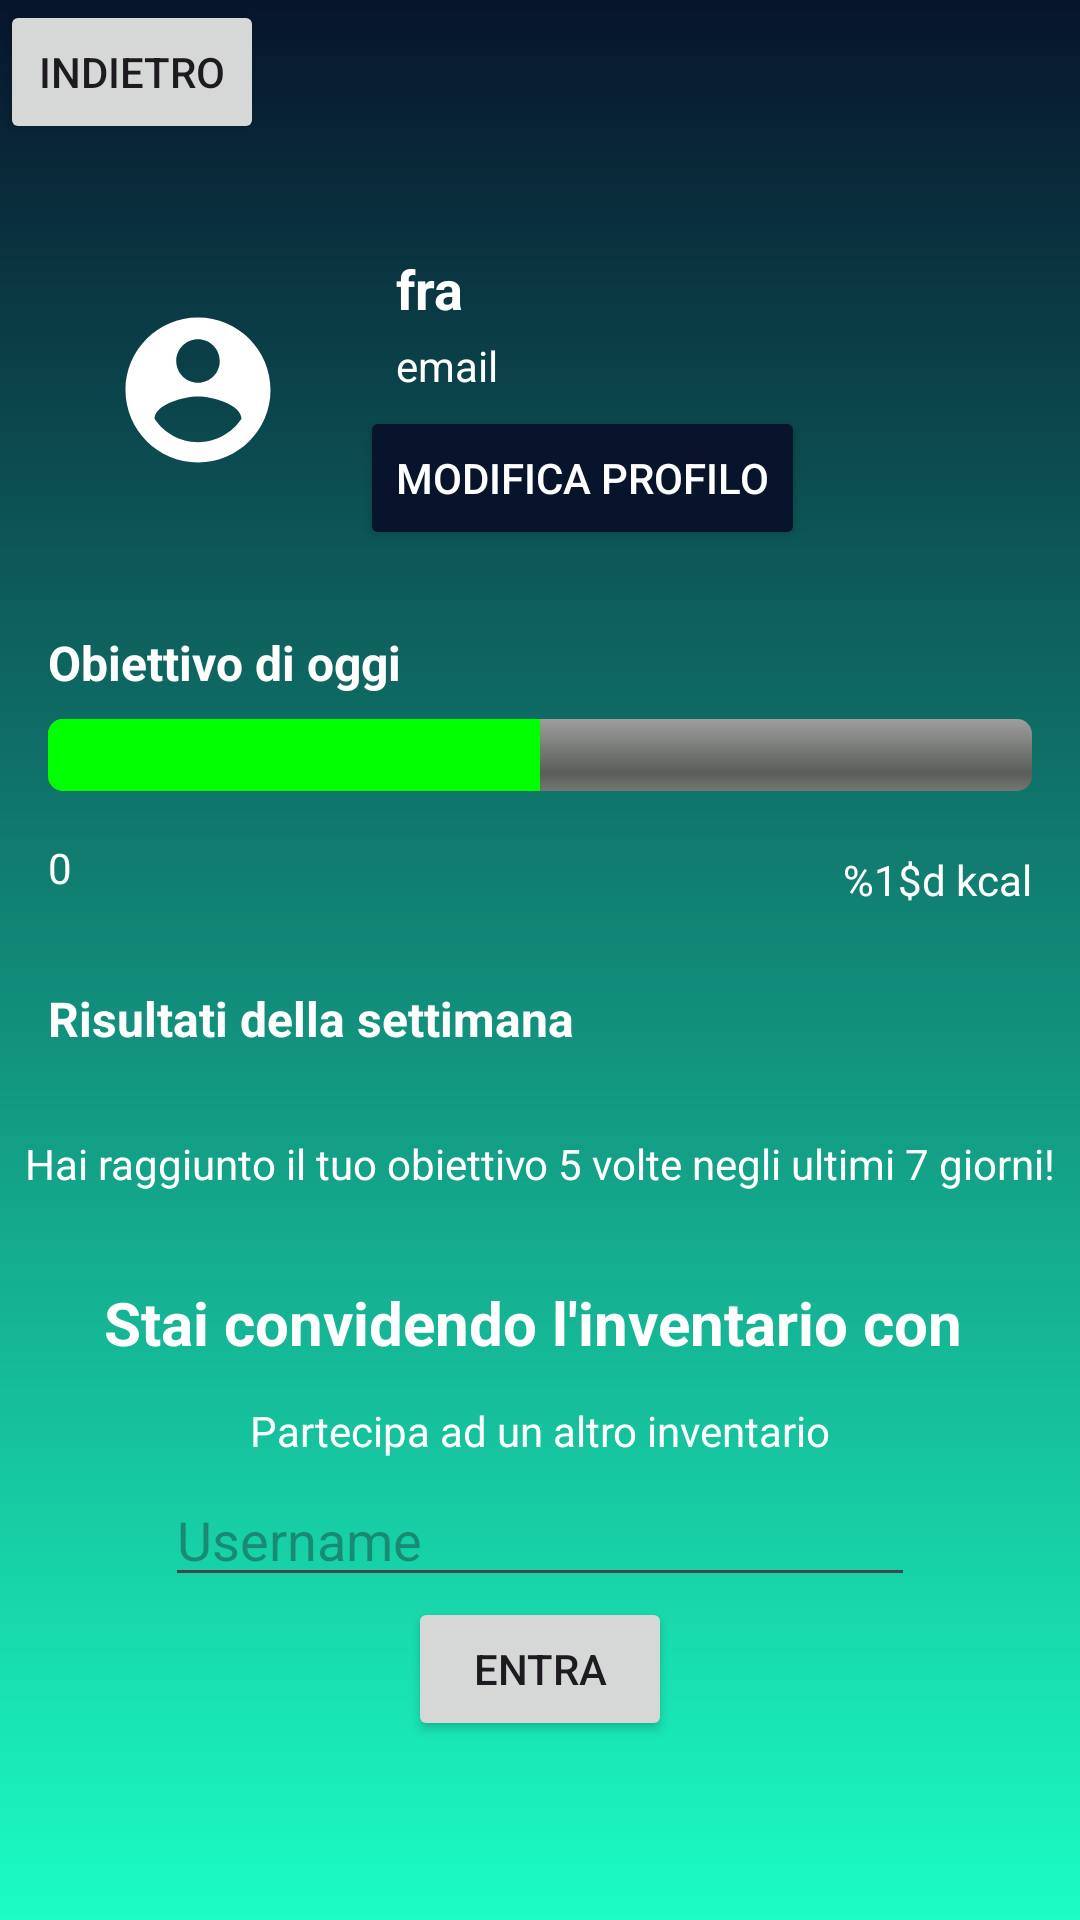

Where to tap for icons on this 1080x1920 app screen, as (x=x, y=y):
profile: (x=198, y=390)
